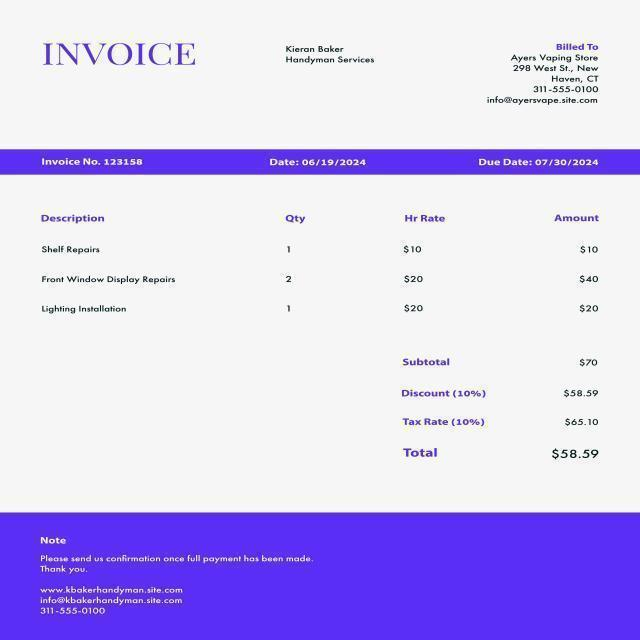paragraph: (34, 532, 318, 623), (394, 352, 605, 465), (36, 152, 608, 174), (481, 37, 602, 110), (37, 33, 205, 73), (282, 38, 379, 68)
table: (30, 204, 615, 325)
